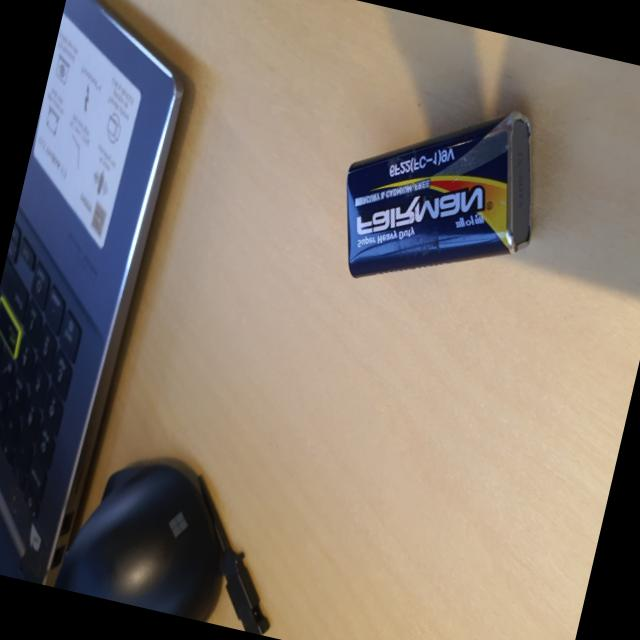battery-etc-etc: (312, 47, 568, 330)
